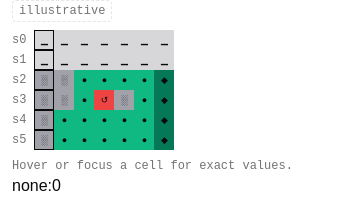
Test: CommitHeatmap (DOM mode) › clicking a cell seeks the player and selects the slot
Click the button named "Slot s3, frame 6: committed, confidence 0.88": (144, 100) top-left (134, 90), bottom-right (154, 110)
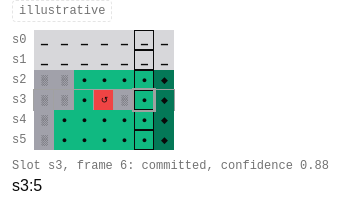
Now the text "s3:5" is shown, box top-left (12, 177), bottom-right (42, 194)
